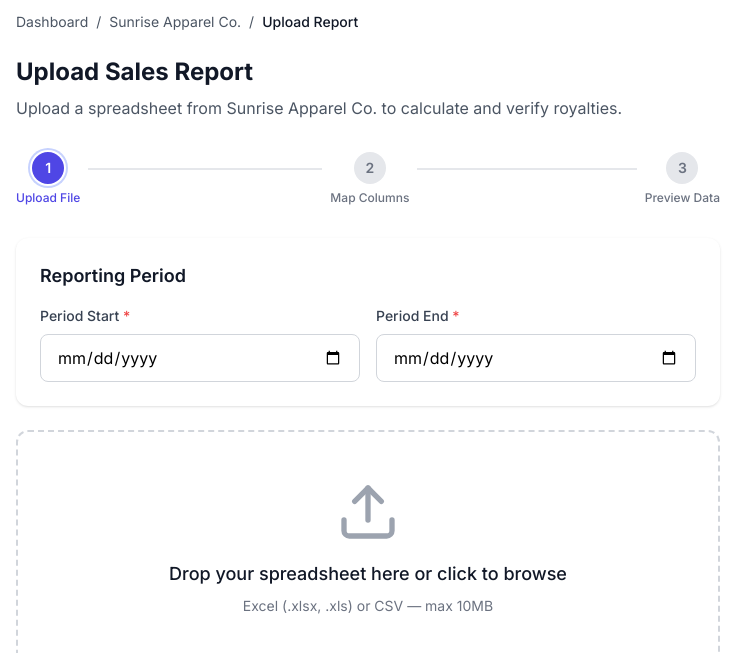
Scenario: Sales Upload Wizard — Gap 3: Contract date range and frequency validation › Continue anyway on range card dismisses it and enables drop zone
Type "2026-01-01" into the date field labelled "Period Start *" at {"x": 200, "y": 358}, box 40,334 -> 360,382
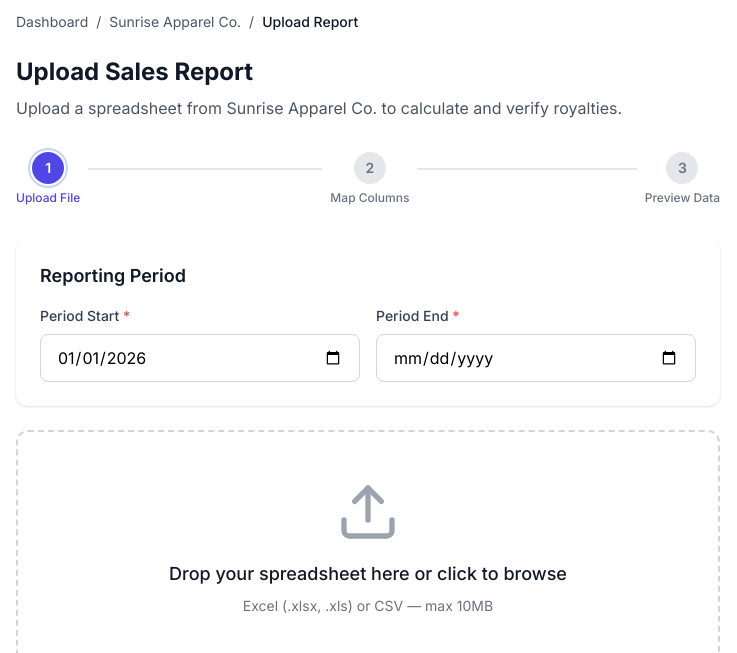
Type "2026-03-31" into the date field labelled "Period End *" at {"x": 536, "y": 358}, box 376,334 -> 696,382
Wait 400 ms
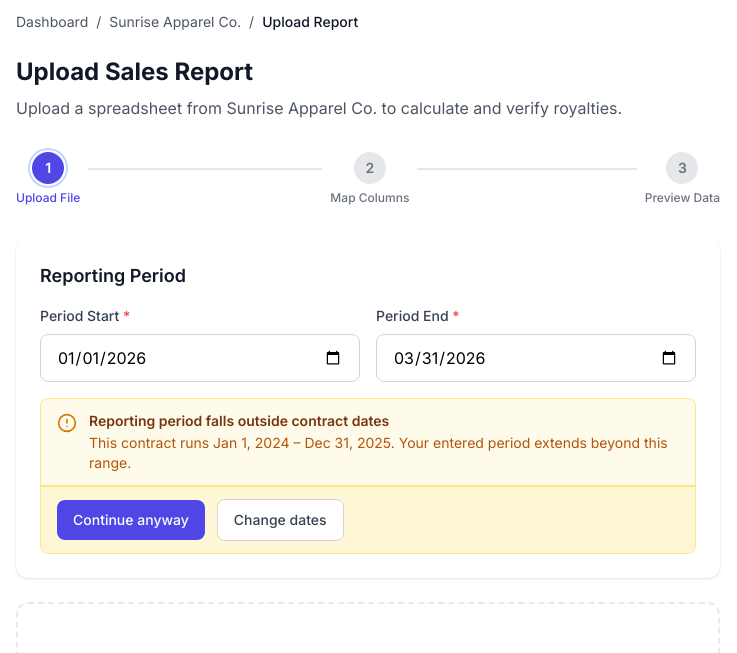
Result: the button "Continue anyway" is shown
Click the button "Continue anyway" at {"x": 131, "y": 520}, box 57,500 -> 205,540
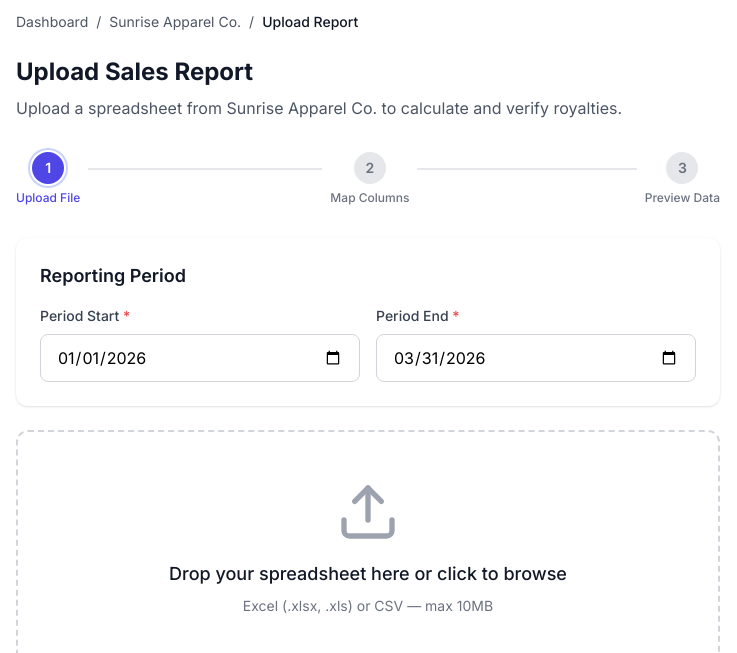
Result: the text "Reporting period falls outside contract dates" is gone
